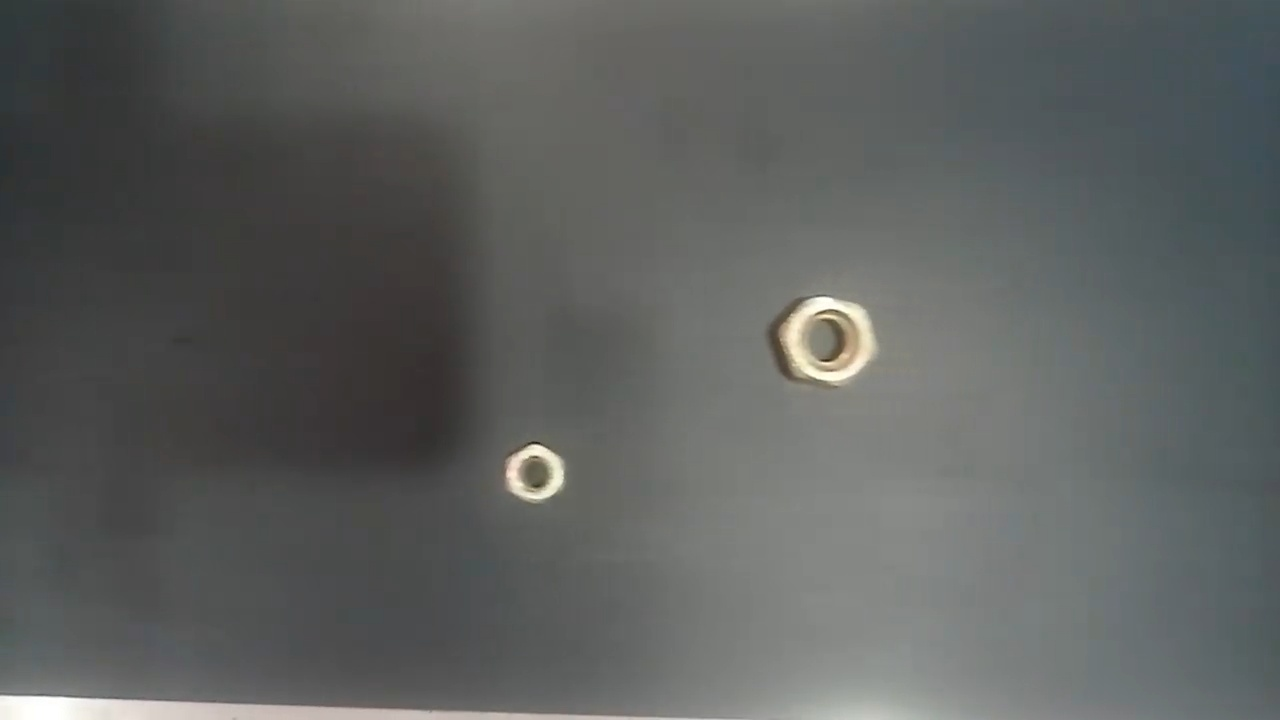Bolt: (772, 291, 879, 385), (500, 441, 569, 507)
